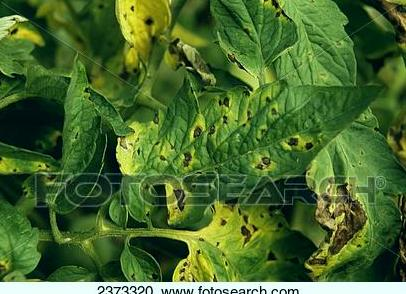Tomato Early blight leaf: (108, 81, 376, 186), (311, 145, 406, 282), (181, 191, 309, 279), (78, 0, 167, 48), (0, 187, 45, 277)
